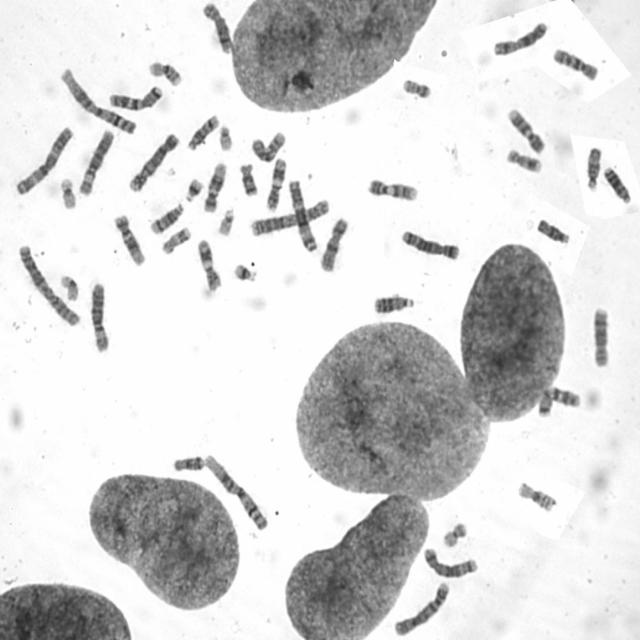A1: (56, 62, 139, 136), (200, 448, 270, 532)
A2: (13, 239, 82, 328), (247, 194, 330, 237)
A3: (11, 120, 75, 196), (284, 174, 320, 252)
B4: (390, 577, 451, 637), (124, 128, 180, 193)
B5: (397, 225, 461, 261), (419, 542, 479, 579)
C10: (548, 42, 601, 82), (247, 125, 288, 164)
C11: (194, 234, 222, 292), (261, 153, 288, 212)
C12: (110, 209, 146, 267), (200, 157, 228, 213)
C6: (75, 124, 115, 197), (86, 277, 111, 353)
C7: (104, 80, 164, 112), (534, 381, 582, 418)
C8: (198, 0, 234, 55), (588, 301, 612, 368)
C9: (504, 103, 546, 155), (363, 172, 420, 202)
D13: (599, 161, 632, 205), (369, 288, 416, 316)
D14: (183, 109, 220, 152), (146, 197, 186, 236)
D15: (532, 213, 572, 245), (582, 142, 603, 192)
E16: (514, 476, 558, 513), (144, 55, 184, 87)
E17: (502, 143, 544, 174), (157, 221, 192, 255)
E18: (235, 158, 259, 198), (169, 450, 205, 473)
F19: (56, 172, 78, 210), (56, 269, 80, 302)
F20: (438, 516, 469, 549), (398, 72, 433, 100)
G21: (229, 258, 259, 284), (181, 172, 204, 202)
G22: (213, 202, 236, 236), (215, 120, 234, 152)
X: (489, 16, 550, 57), (316, 212, 350, 272)
